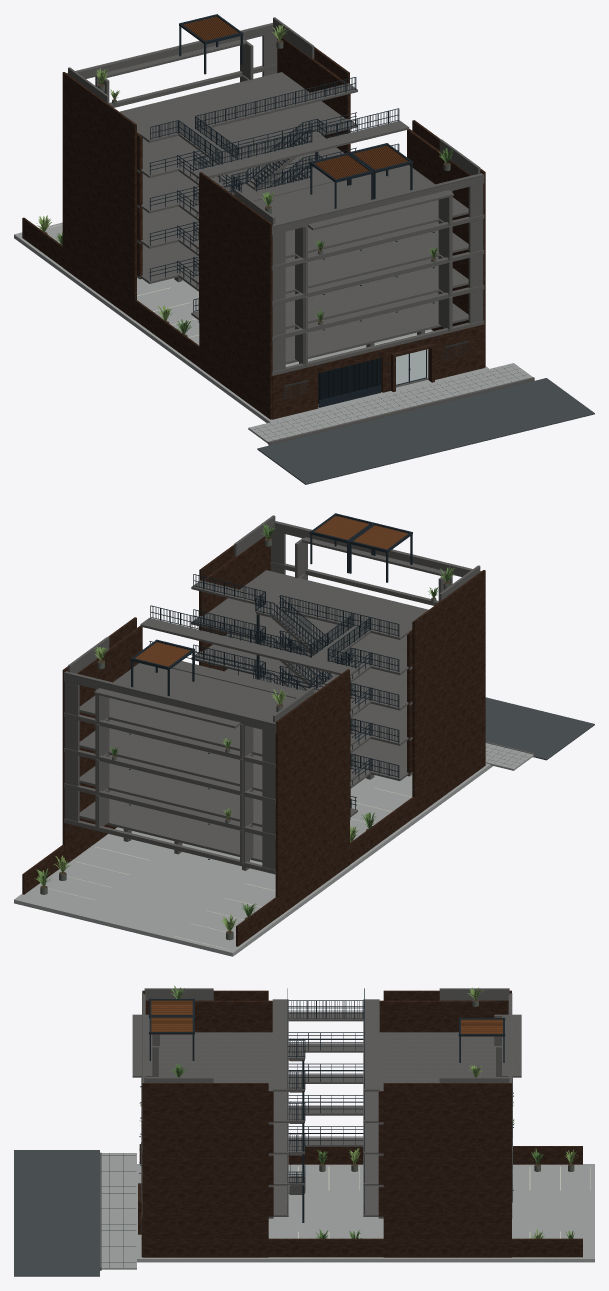
The model's file is envolvente-v6.glb.
The picture shows the model from 3 angles, top to bottom: view 1: azimuth 30°, elevation 25°; view 2: azimuth 150°, elevation 25°; view 3: azimuth 270°, elevation 25°; orthographic projection. The views are drawn at different scales.
Parts seen in each view (by area): view 1: 01_Estructura__Revoque_mineral_gris, 02_Fachada_frente__Revoque_mineral_gris, 10_Contexto__Asfalto, 02_Fachada_frente__Ladrillo_visto, 03_Contrafrente__Ladrillo_visto, 10_Contexto__Vereda_gris, 12_Escalera_corregida__Aluminio_grafito, 12_Escalera_corregida__Revoque_mineral_gris, 09_Accesos__Ladrillo_visto, 01_Estructura__Ladrillo_visto, 04_Patio__Revoque_mineral_gris, 10_Contexto__Ladrillo_visto (+8 smaller); view 2: 01_Estructura__Revoque_mineral_gris, 10_Contexto__Vereda_gris, 03_Contrafrente__Revoque_mineral_gris, 03_Contrafrente__Ladrillo_visto, 02_Fachada_frente__Ladrillo_visto, 12_Escalera_corregida__Aluminio_grafito, 12_Escalera_corregida__Revoque_mineral_gris, 04_Patio__Revoque_mineral_gris, 10_Contexto__Ladrillo_visto, 01_Estructura__Ladrillo_visto, 02_Fachada_frente__Revoque_mineral_gris, 10_Contexto__Asfalto (+5 smaller); view 3: 03_Contrafrente__Ladrillo_visto, 02_Fachada_frente__Ladrillo_visto, 10_Contexto__Vereda_gris, 01_Estructura__Revoque_mineral_gris, 10_Contexto__Asfalto, 10_Contexto__Ladrillo_visto, 01_Estructura__Ladrillo_visto, 04_Patio__Revoque_mineral_gris, 12_Escalera_corregida__Revoque_mineral_gris, 12_Escalera_corregida__Aluminio_grafito, 05_Terrazas__Revoque_mineral_gris, 04_Patio__Aluminio_grafito (+7 smaller).
Boxes of the visible parts, <box> form: 01_Estructura__Revoque_mineral_gris: <box>119,72,468,364</box>; 02_Fachada_frente__Revoque_mineral_gris: <box>272,173,484,375</box>; 10_Contexto__Asfalto: <box>257,378,594,484</box>; 02_Fachada_frente__Ladrillo_visto: <box>199,120,485,419</box>; 03_Contrafrente__Ladrillo_visto: <box>62,38,349,319</box>; 10_Contexto__Vereda_gris: <box>14,222,532,443</box>; 12_Escalera_corregida__Aluminio_grafito: <box>150,77,399,312</box>; 12_Escalera_corregida__Revoque_mineral_gris: <box>140,83,409,193</box>; 09_Accesos__Ladrillo_visto: <box>272,324,484,419</box>; 01_Estructura__Ladrillo_visto: <box>137,37,470,319</box>; 04_Patio__Revoque_mineral_gris: <box>140,119,357,319</box>; 10_Contexto__Ladrillo_visto: <box>22,217,269,418</box>; 01_Estructura__Revoque_mineral_gris: <box>79,570,428,870</box>; 10_Contexto__Vereda_gris: <box>14,743,533,956</box>; 03_Contrafrente__Revoque_mineral_gris: <box>64,671,276,874</box>; 03_Contrafrente__Ladrillo_visto: <box>62,617,349,917</box>; 02_Fachada_frente__Ladrillo_visto: <box>199,536,485,815</box>; 12_Escalera_corregida__Aluminio_grafito: <box>150,574,399,808</box>; 12_Escalera_corregida__Revoque_mineral_gris: <box>140,580,409,689</box>; 04_Patio__Revoque_mineral_gris: <box>172,616,408,816</box>; 10_Contexto__Ladrillo_visto: <box>22,746,485,946</box>; 01_Estructura__Ladrillo_visto: <box>77,535,412,817</box>; 02_Fachada_frente__Revoque_mineral_gris: <box>270,521,481,605</box>; 10_Contexto__Asfalto: <box>485,697,594,760</box>; 03_Contrafrente__Ladrillo_visto: <box>383,990,511,1257</box>; 02_Fachada_frente__Ladrillo_visto: <box>142,990,268,1257</box>; 10_Contexto__Vereda_gris: <box>101,1153,594,1269</box>; 01_Estructura__Revoque_mineral_gris: <box>158,1032,495,1218</box>; 10_Contexto__Asfalto: <box>14,1150,99,1276</box>; 10_Contexto__Ladrillo_visto: <box>143,1146,582,1257</box>; 01_Estructura__Ladrillo_visto: <box>194,1000,495,1216</box>; 04_Patio__Revoque_mineral_gris: <box>273,1043,378,1216</box>; 12_Escalera_corregida__Revoque_mineral_gris: <box>272,999,379,1194</box>; 12_Escalera_corregida__Aluminio_grafito: <box>287,988,364,1222</box>; 05_Terrazas__Revoque_mineral_gris: <box>144,988,509,1082</box>; 04_Patio__Aluminio_grafito: <box>288,1032,364,1214</box>.
Size of the model in its own units: 24.89 by 18.41 by 48.66.
Materials: 15 (3 with a texture image).
